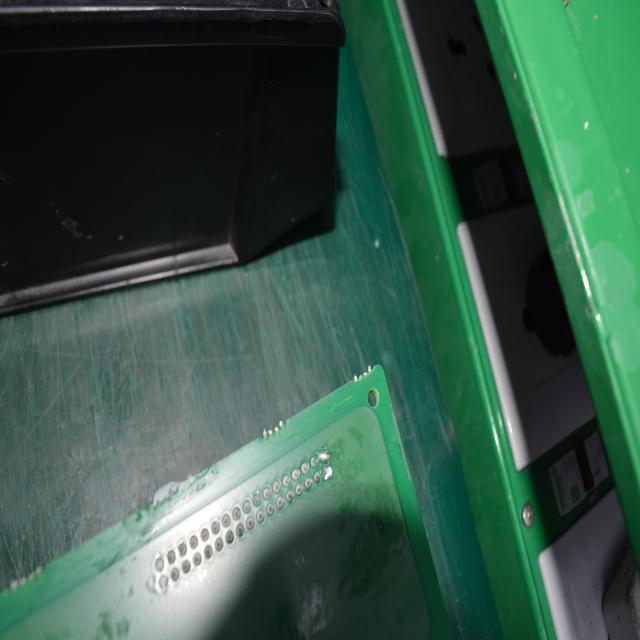slug: (320, 464, 334, 482), (316, 446, 331, 462)
